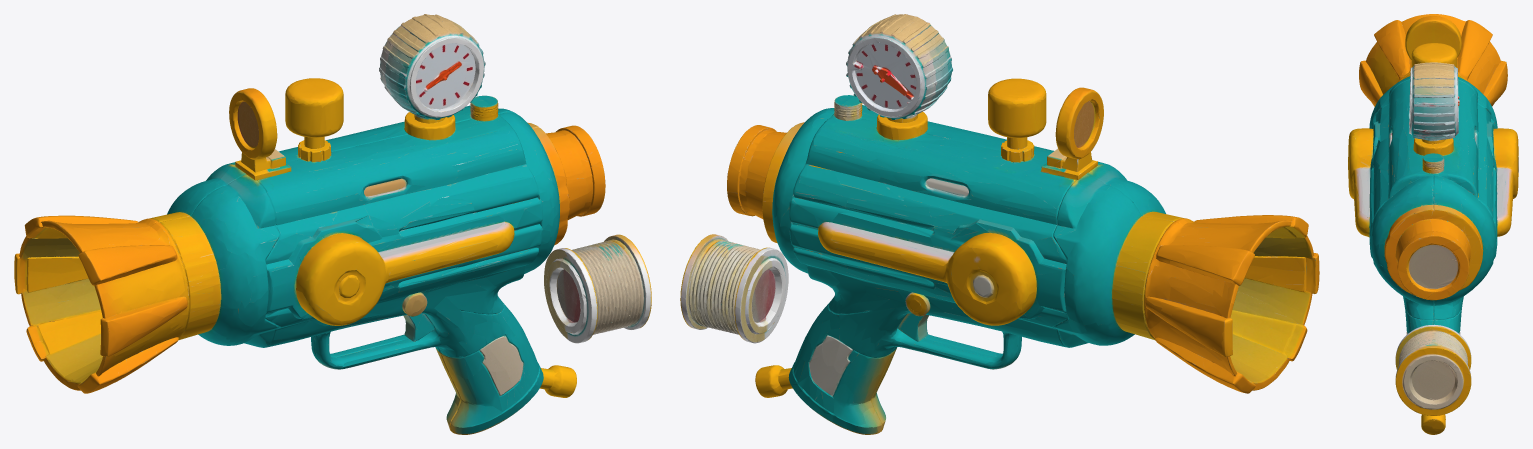
The model's file is lancia_B1.glb.
3 views of the same model, side by side, from view 1: azimuth 30°, elevation 25°; view 2: azimuth 150°, elevation 25°; view 3: azimuth 270°, elevation 25° (orthographic). The views are drawn at different scales.
Bounding box in the file's own units: 1.9 × 1.32 × 0.6284.
Materials: 1 (1 with a texture image).
